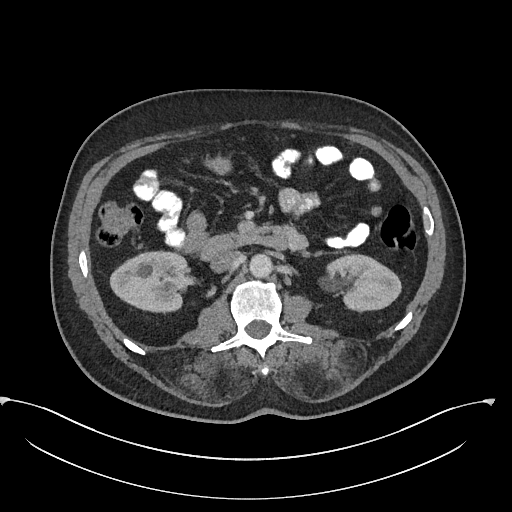Lesion: (132, 262, 157, 282)
